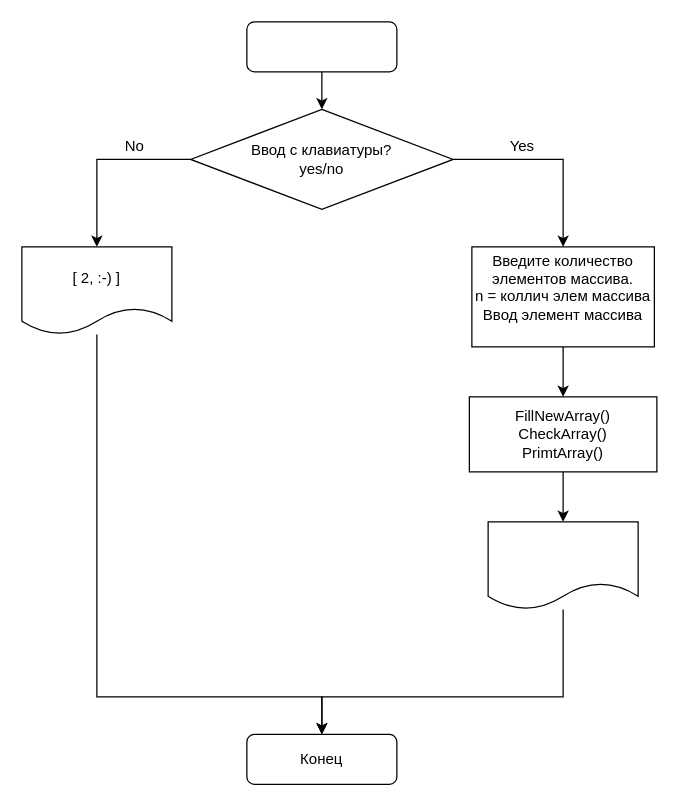
This 679x806 diagram has some shape labels left out. Each missing label, with the centre of its shape:
InputNumbers(): point (562, 565)
Начало: point (321, 46)
